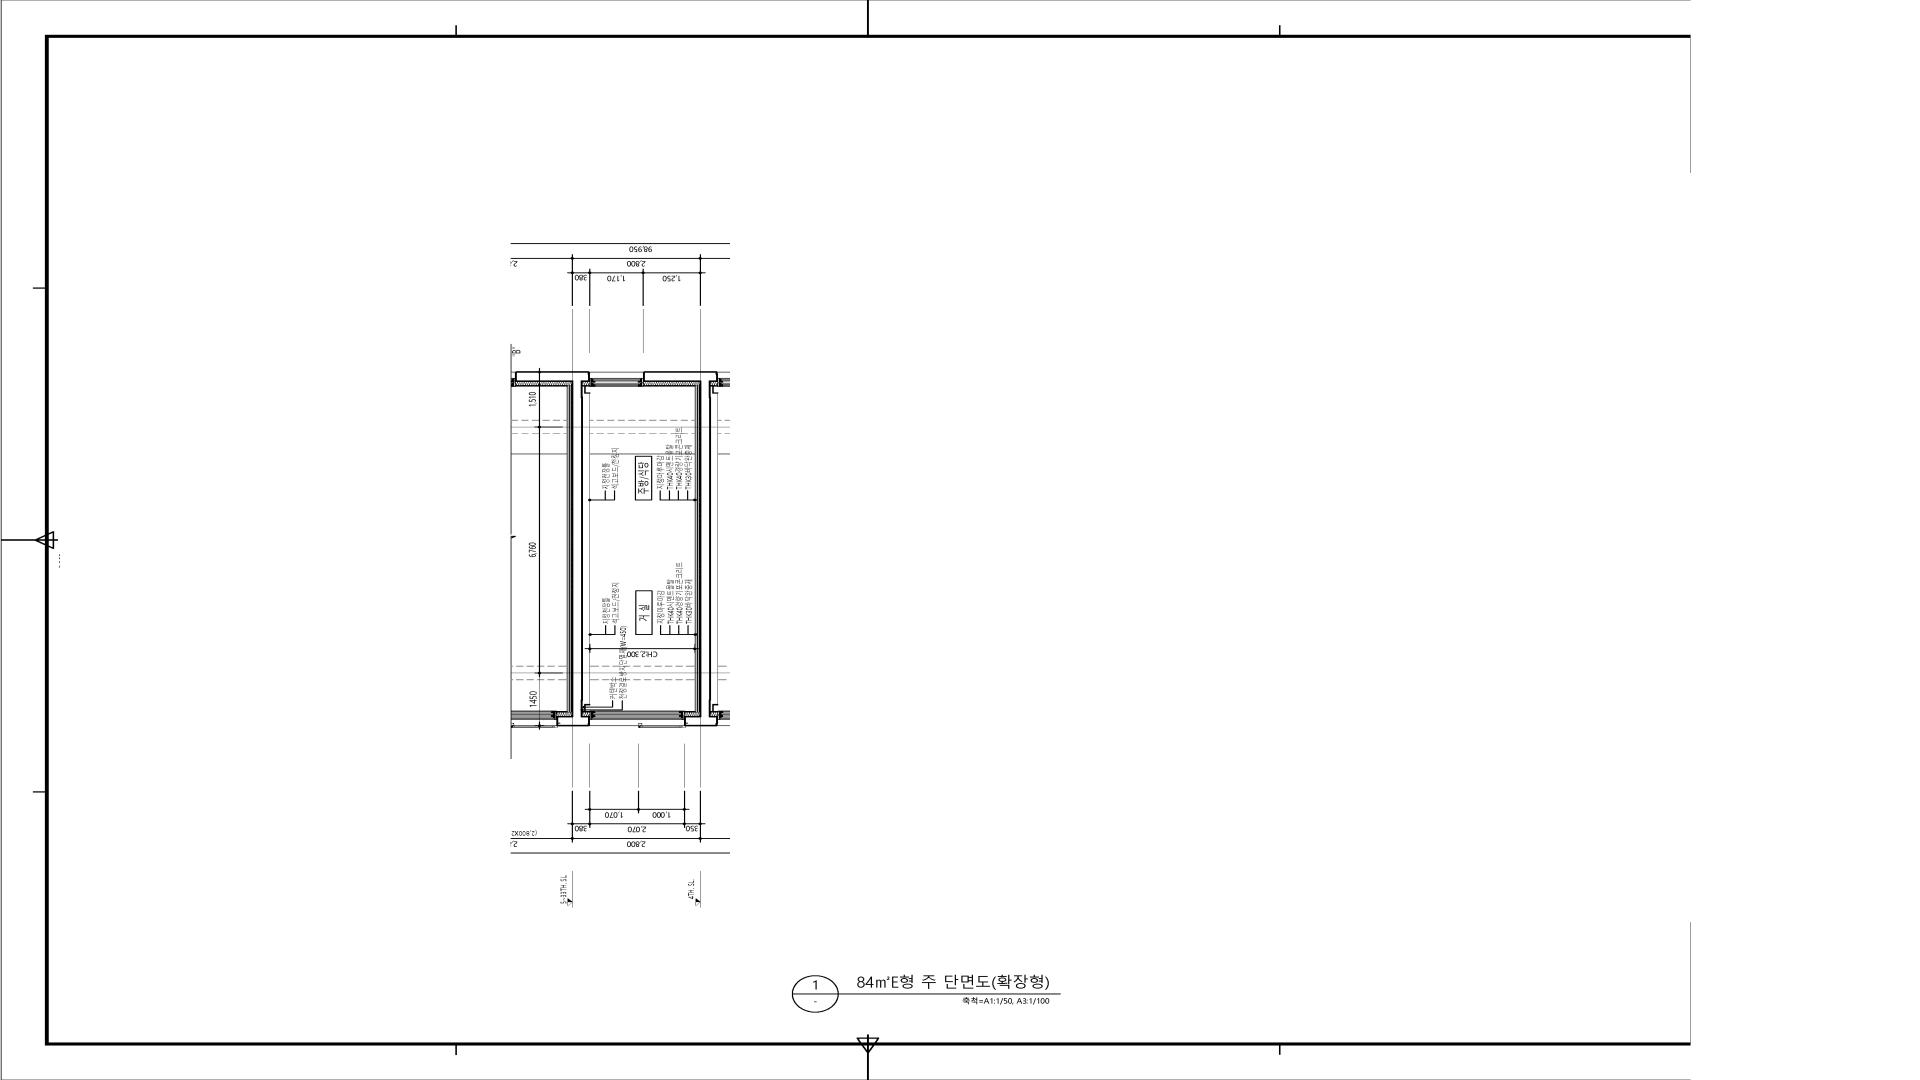wall: (644, 372, 711, 727), (570, 371, 589, 727)
window: (591, 711, 684, 727), (589, 372, 644, 386)
